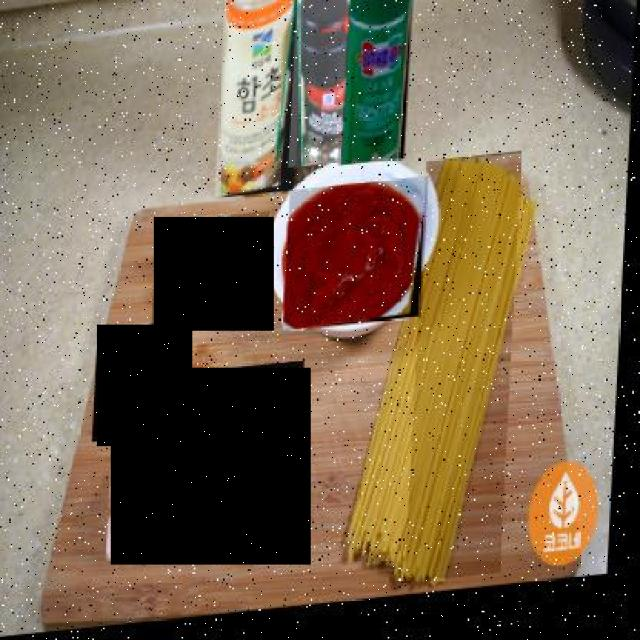Chicken: (112, 368, 310, 566)
Garlic: (154, 218, 274, 332)
Ketchup: (286, 187, 431, 339)
Onion: (97, 325, 192, 446)
